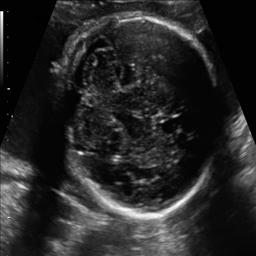normal: (64, 16, 224, 219)
